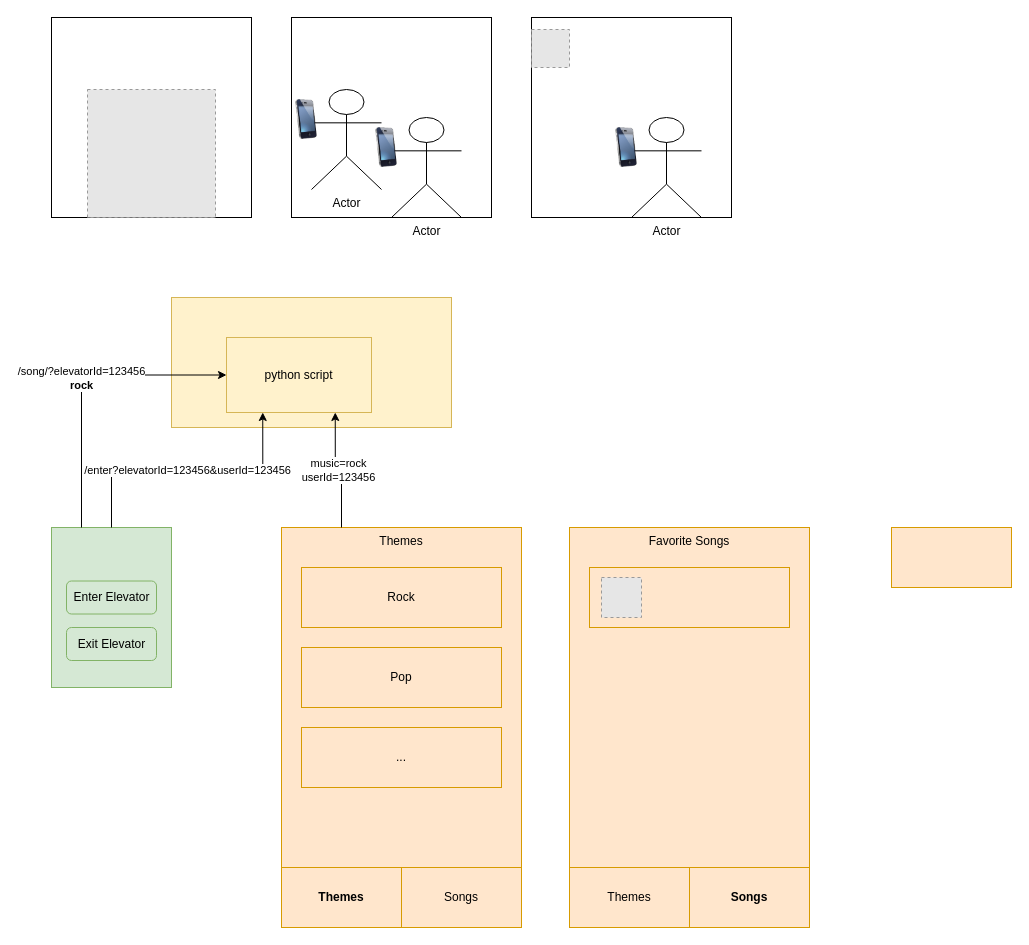
The diagram is 1029 pixels wide and 945 high, and some of its shapes have lost their labels. Grey dashed boxes stand in for pictures. Each missing label, with the box of its shape:
Browser: (50, 526, 172, 688)
Import from Spotify: (588, 566, 790, 628)
Pitch Deck & Video: (890, 526, 1012, 588)
VM (Linux): (170, 296, 452, 428)
